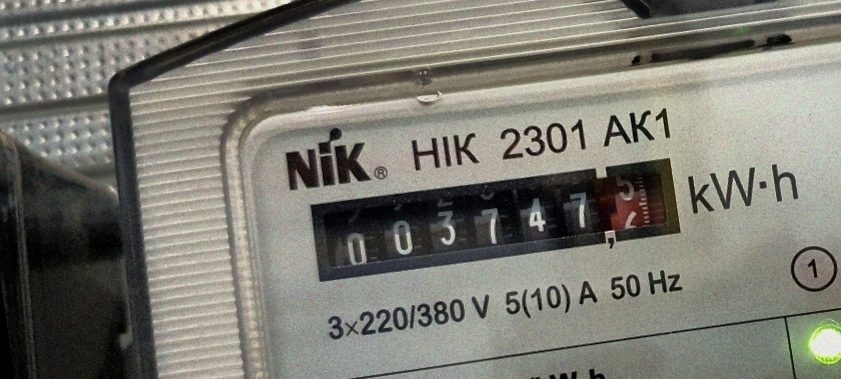0: (389, 216, 415, 257), (343, 229, 369, 267)
3: (434, 208, 458, 247)
4: (522, 193, 548, 236)
5: (614, 172, 637, 203)
6: (619, 207, 640, 230)
7: (566, 187, 593, 230), (478, 204, 503, 246)
screen: (298, 140, 698, 300)
